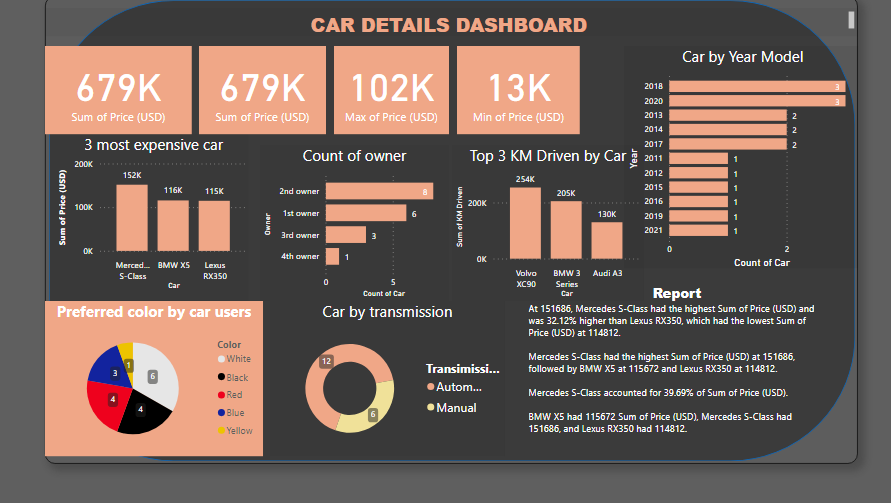

The page's visual inventory and layout, read from the dashboard file:
{"tool":"powerbi","page":{"name":"Page 3","canvas":[1280,720],"ordinal":2},"visuals":[{"type":"shape","title":"CAR","box":[68,0,1152.3,663.3],"z":0},{"type":"columnChart","title":"3 most expensive car ","fields":{"Category":["Sheet1.Car"],"Y":["Sum(Sheet1.Price (USD))"]},"box":[68,195.6,287.7,236.7],"z":1000},{"type":"clusteredBarChart","title":"Count of owner","fields":{"Category":["Sheet1.Owner"],"Y":["CountNonNull(Sheet1.Car)"]},"box":[372.8,211.2,267.9,221.1],"z":2000},{"type":"clusteredBarChart","title":"Car by Year Model","fields":{"Category":["Sheet1.Year"],"Y":["CountNonNull(Sheet1.Car)"]},"box":[888.7,70.9,331.7,314.6],"z":3000},{"type":"columnChart","title":"Top 3 KM Driven by Car","fields":{"Category":["Sheet1.Car"],"Y":["Sum(Sheet1.KM Driven)"]},"box":[644.9,211.2,272.1,221.1],"z":4000},{"type":"pieChart","title":"Preferred color by car users","fields":{"Category":["Sheet1.Color"],"Y":["CountNonNull(Sheet1.Car)"]},"box":[68,432.3,309,219.7],"z":5000},{"type":"card","fields":{"Values":["Sum(Sheet1.Price (USD))"]},"box":[68,70.9,208.3,124.7],"z":6000},{"type":"card","fields":{"Values":["Sum(Sheet1.Price (USD))"]},"box":[286.3,70.9,180,124.7],"z":7000},{"type":"card","fields":{"Values":["Max(Sheet1.Price (USD))"]},"box":[477.6,70.9,163,124.7],"z":8000},{"type":"card","fields":{"Values":["Min(Sheet1.Price (USD))"]},"box":[652,70.9,174.3,124.7],"z":9000},{"type":"donutChart","title":"Car by transmission","fields":{"Category":["Sheet1.Transimission"],"Y":["CountNonNull(Sheet1.Car)"]},"box":[386.9,432.3,333.1,219.7],"z":10000},{"type":"textbox","box":[68,17,1152.3,39.7],"z":11000},{"type":"textbox","box":[748.3,402.5,430.9,249.4],"z":11001}]}

Visuals, with their boxes in screenshot pixels (x1, y1, x2, y2), scaled from the page's 1280x720 canvas onto the 891x503 screenshot:
"CAR" shape: {"left": 47, "top": 0, "right": 849, "bottom": 463}
"3 most expensive car " columnChart: {"left": 47, "top": 137, "right": 248, "bottom": 302}
"Count of owner" clusteredBarChart: {"left": 260, "top": 148, "right": 446, "bottom": 302}
"Car by Year Model" clusteredBarChart: {"left": 619, "top": 50, "right": 850, "bottom": 269}
"Top 3 KM Driven by Car" columnChart: {"left": 449, "top": 148, "right": 638, "bottom": 302}
"Preferred color by car users" pieChart: {"left": 47, "top": 302, "right": 262, "bottom": 455}
card - Sum(Sheet1.Price (USD)): {"left": 47, "top": 50, "right": 192, "bottom": 137}
card - Sum(Sheet1.Price (USD)): {"left": 199, "top": 50, "right": 325, "bottom": 137}
card - Max(Sheet1.Price (USD)): {"left": 332, "top": 50, "right": 446, "bottom": 137}
card - Min(Sheet1.Price (USD)): {"left": 454, "top": 50, "right": 575, "bottom": 137}
"Car by transmission" donutChart: {"left": 269, "top": 302, "right": 501, "bottom": 455}
textbox: {"left": 47, "top": 12, "right": 849, "bottom": 40}
textbox: {"left": 521, "top": 281, "right": 821, "bottom": 455}
